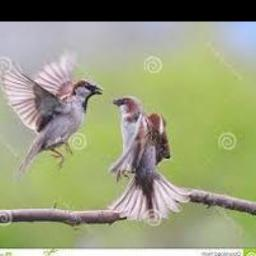Sparrow: (1, 56, 104, 178), (109, 97, 191, 224)
